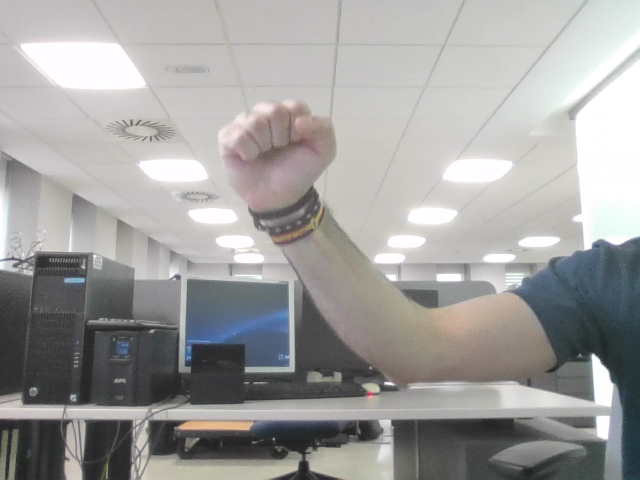Puño: (230, 108, 320, 181)
